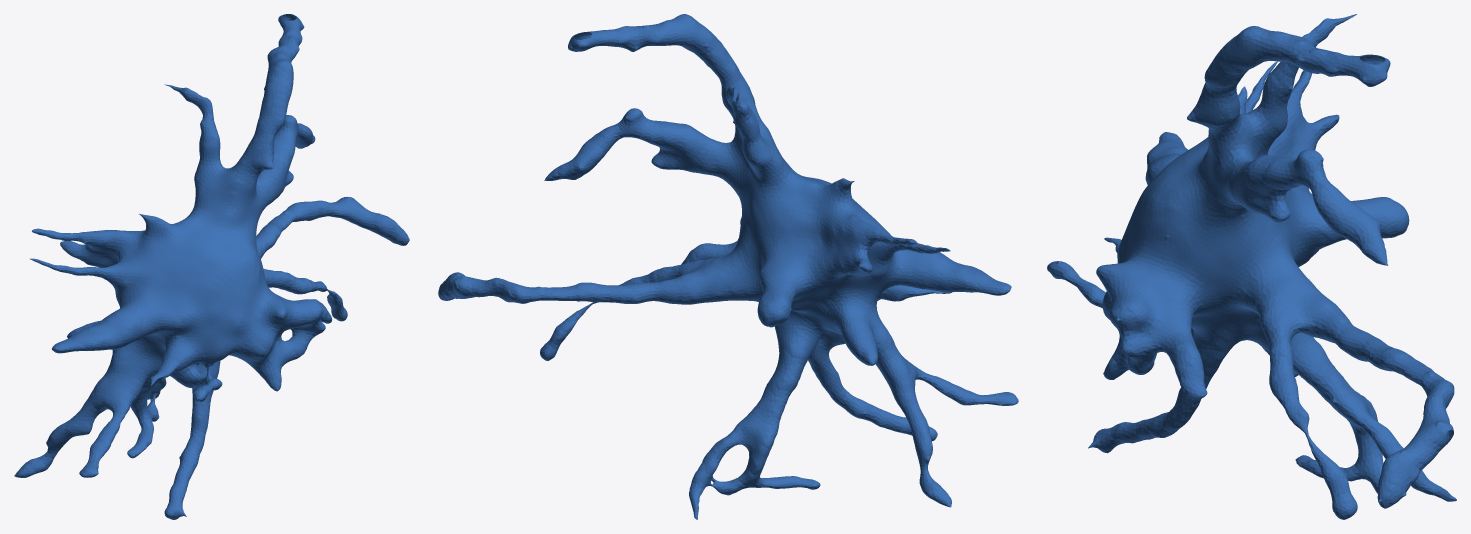
The model's file is blebbistatin.glb.
The picture shows the model from 3 angles, left to right: view 1: azimuth 30°, elevation 25°; view 2: azimuth 150°, elevation 25°; view 3: azimuth 270°, elevation 25°; orthographic projection. The views are drawn at different scales.
Parts seen in each view (by area): view 1: mesh; view 2: mesh; view 3: mesh.
Part boxes in pixels (box(x1,y1,x2,y2)): mesh: box(14, 14, 409, 519); mesh: box(438, 14, 1018, 519); mesh: box(1047, 14, 1456, 519).
Bounding box in the file's own units: 1.11 × 0.9367 × 0.6474.
